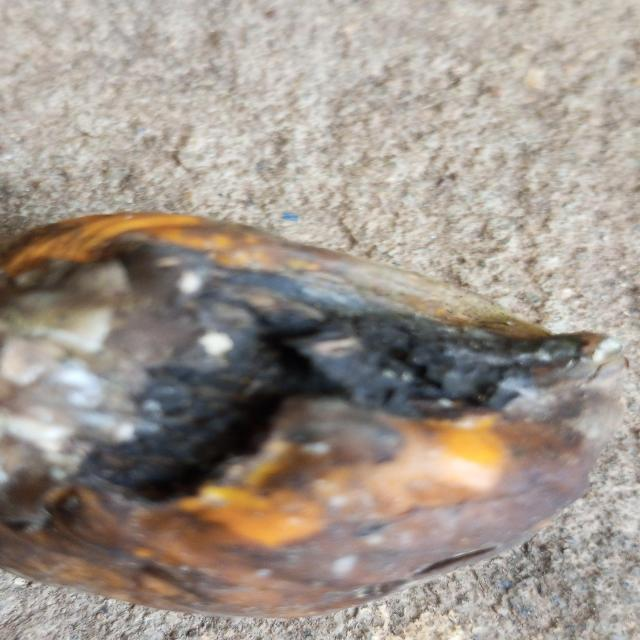damaged: (0, 212, 624, 617)
